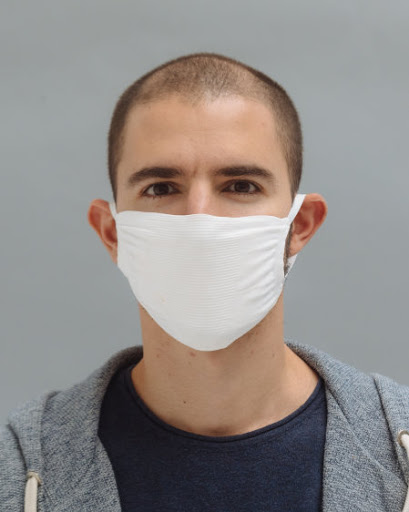barbijo: (98, 192, 309, 360)
